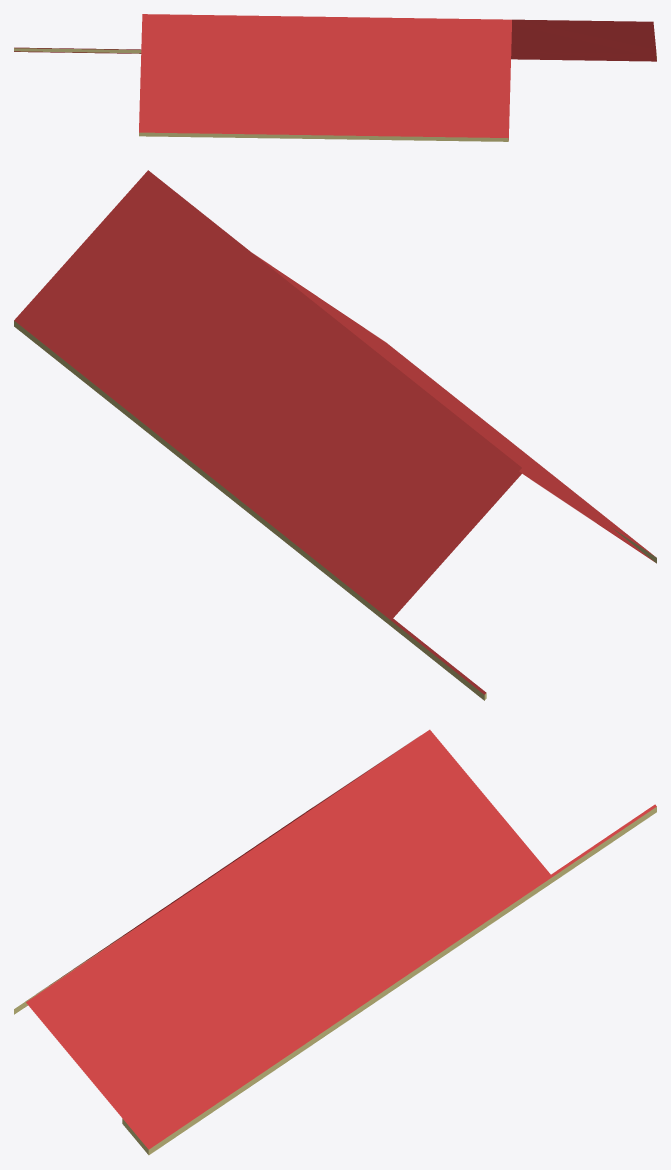
3 views of the same model, one above another, from view 1: azimuth 30°, elevation 25°; view 2: azimuth 150°, elevation 25°; view 3: azimuth 270°, elevation 25° (orthographic). The views are drawn at different scales.
Bounding box in the file's own units: 13.02 × 10.29 × 2.13.
